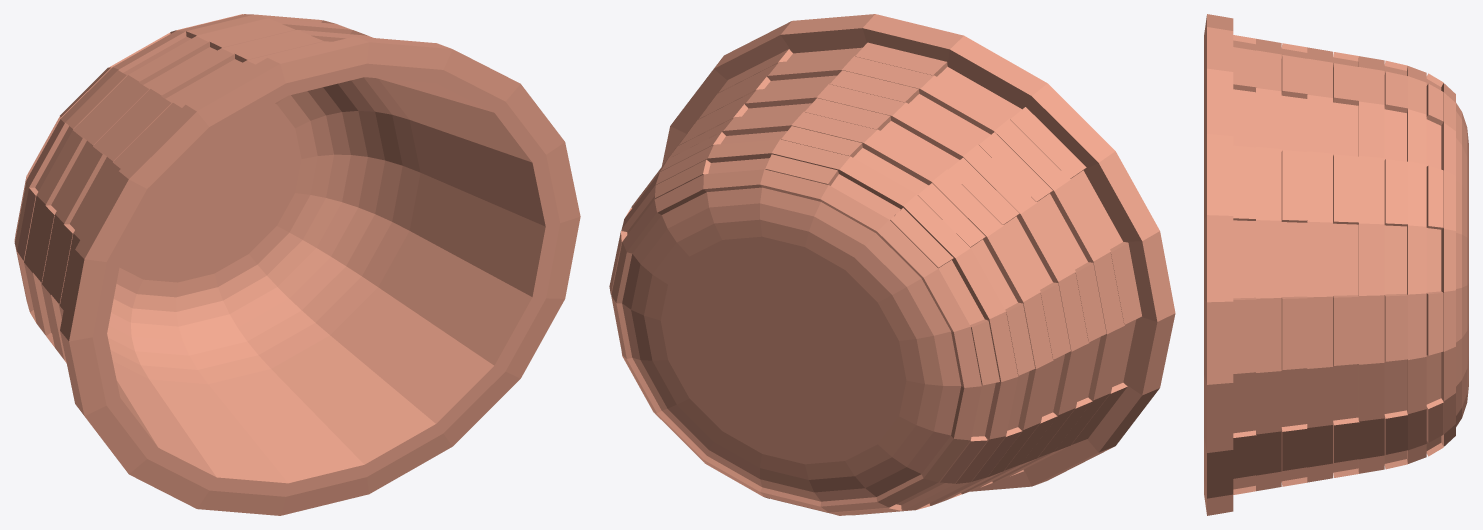
File: basket.glb
The picture shows the model from 3 angles, left to right: view 1: azimuth 30°, elevation 25°; view 2: azimuth 150°, elevation 25°; view 3: azimuth 270°, elevation 25°; orthographic projection. The views are drawn at different scales.
Parts seen in each view (by area): view 1: geometry_0; view 2: geometry_0; view 3: geometry_0.
Part boxes in pixels (x1=…): geometry_0: x1=14, y1=14, x2=580, y2=515; geometry_0: x1=609, y1=14, x2=1175, y2=515; geometry_0: x1=1204, y1=14, x2=1468, y2=515.
Size of the model in its own units: 0.225 by 0.19 by 0.105.
